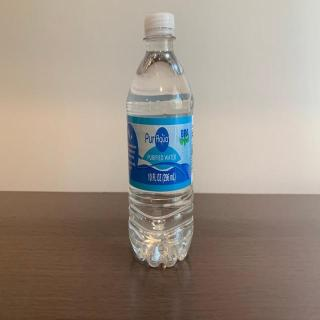Plastic-bottle: (125, 9, 202, 273)
